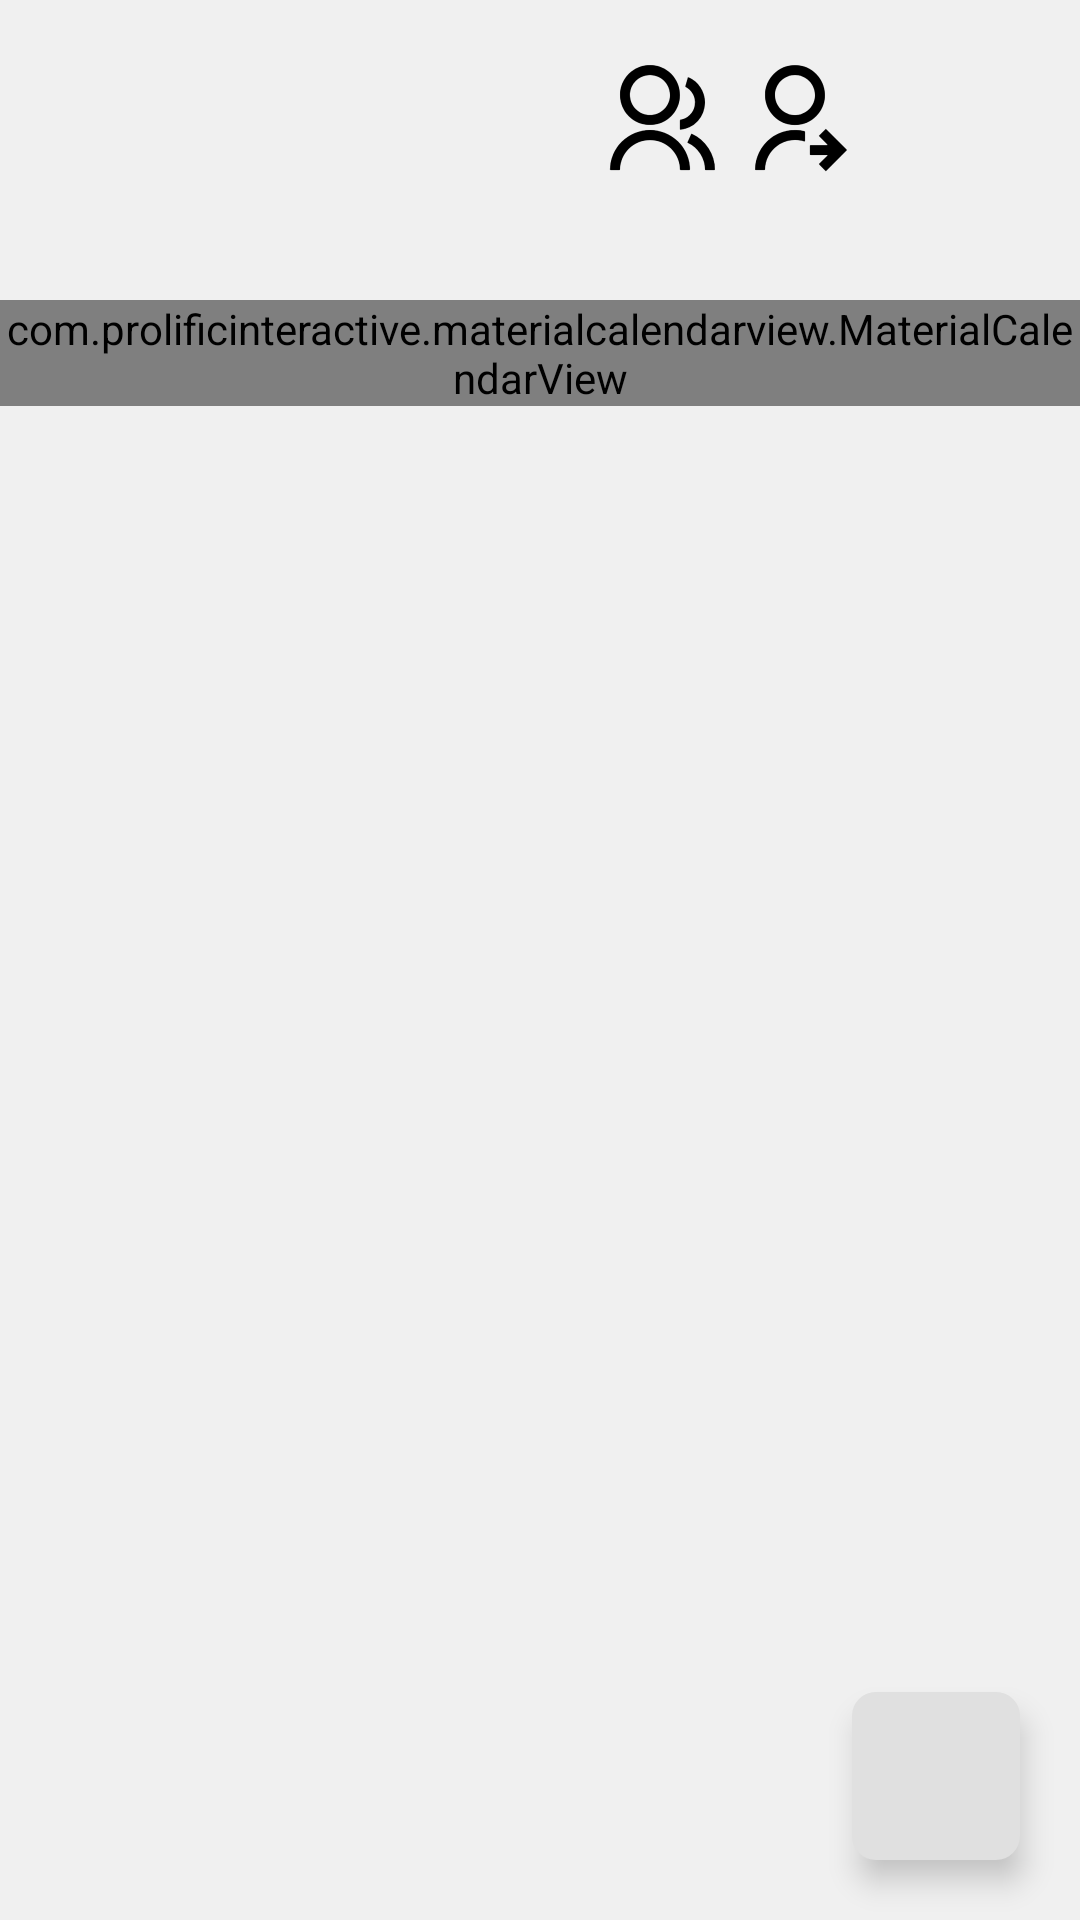

Where to tap for icons on this 1080px x 1920px app screen, as [x,y]:
friendlist: [662,118]
